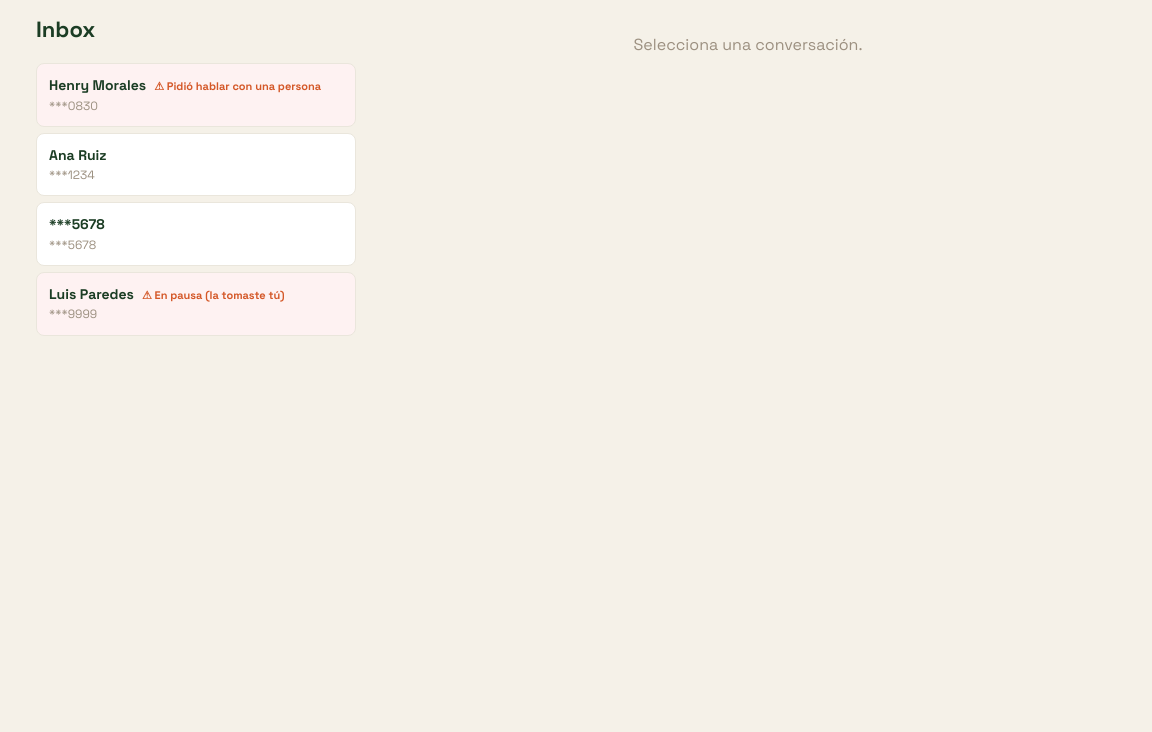
Scenario: Inbox (T-H4.1) › clicking a row fetches the thread and renders it chronologically
The image size is (1152, 732).
Expected: the number of buttons with test id "conv-row" is 4, [36, 63, 356, 127]; [36, 133, 356, 196]; [36, 202, 356, 266]; [36, 272, 356, 336]
Click the text "Henry Morales". click: (196, 85)
box: [49, 74, 343, 97]
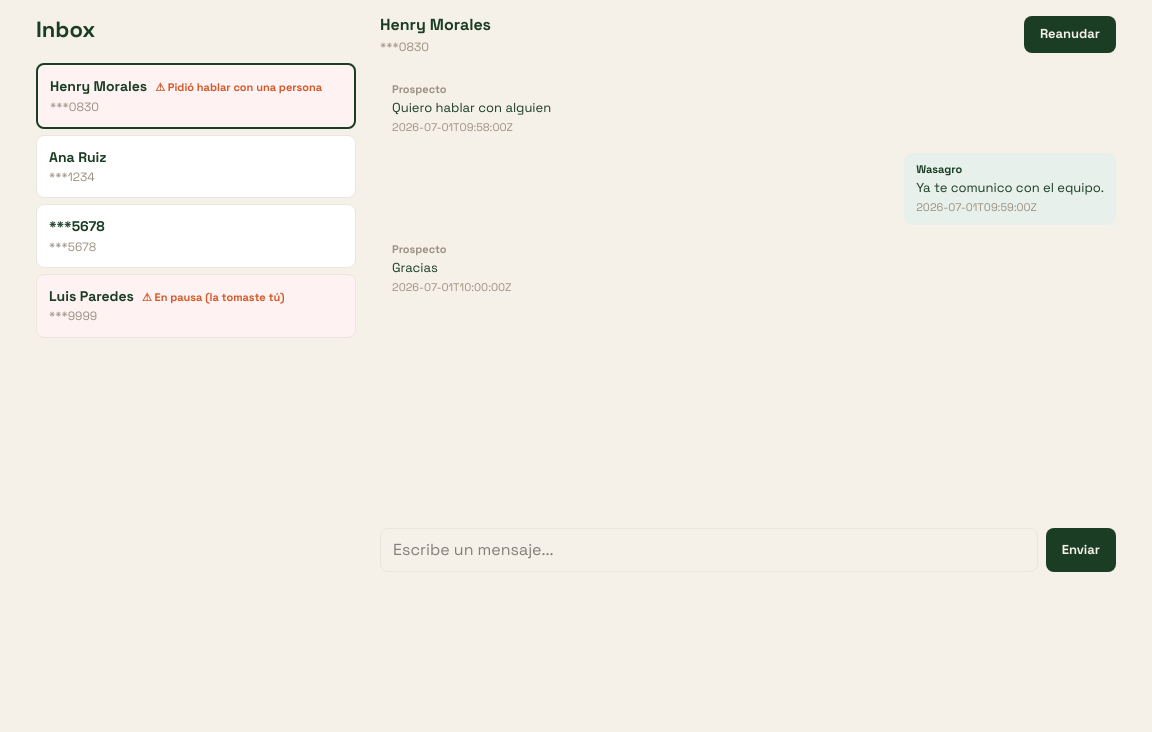
Now the number of elements with test id "thread-item" is 3, box [380, 73, 563, 145]; [904, 153, 1116, 225]; [380, 233, 523, 305]
Now the text "Quiero hablar con alguien" is shown, box [392, 98, 551, 119]
Now the text "Ya te comunico con el equipo." is shown, box [916, 178, 1104, 199]
